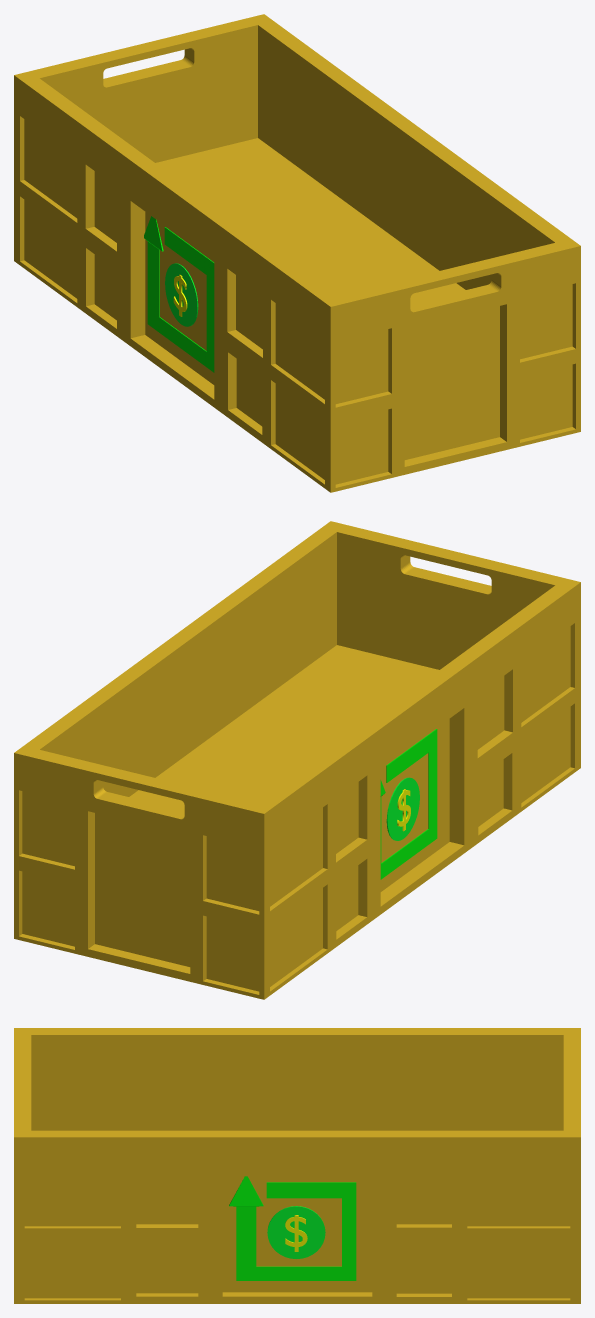
The picture shows the model from 3 angles, top to bottom: view 1: azimuth 30°, elevation 25°; view 2: azimuth 150°, elevation 25°; view 3: azimuth 270°, elevation 25°; orthographic projection. The views are drawn at different scales.
Parts seen in each view (by area): view 1: Cube.003; view 2: Cube.003; view 3: Cube.003, Text.
Part boxes in pixels (x1=…): Cube.003: x1=14, y1=14, x2=580, y2=492; Cube.003: x1=14, y1=521, x2=580, y2=999; Cube.003: x1=14, y1=1028, x2=580, y2=1303; Text: x1=285, y1=1215, x2=307, y2=1251.
Bounding box in the file's own units: 282 × 200 × 618.
